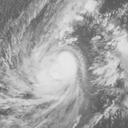cyclone: (40, 48, 83, 94)
